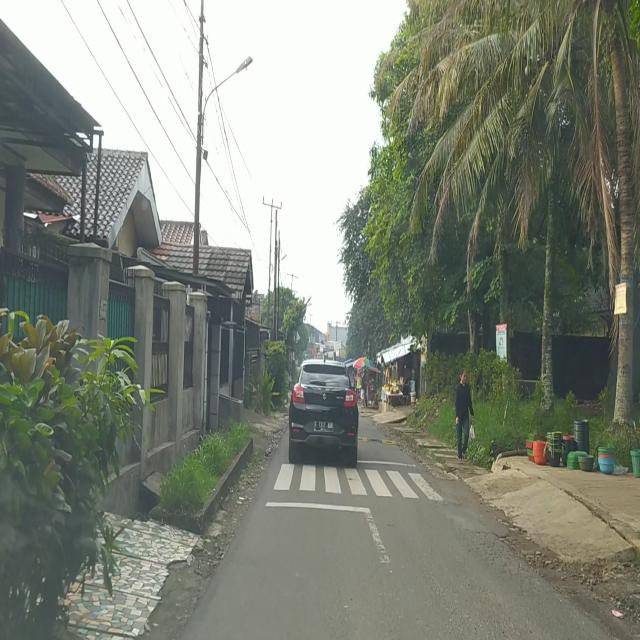Drain Hole: (462, 526, 551, 597), (410, 470, 460, 510)
